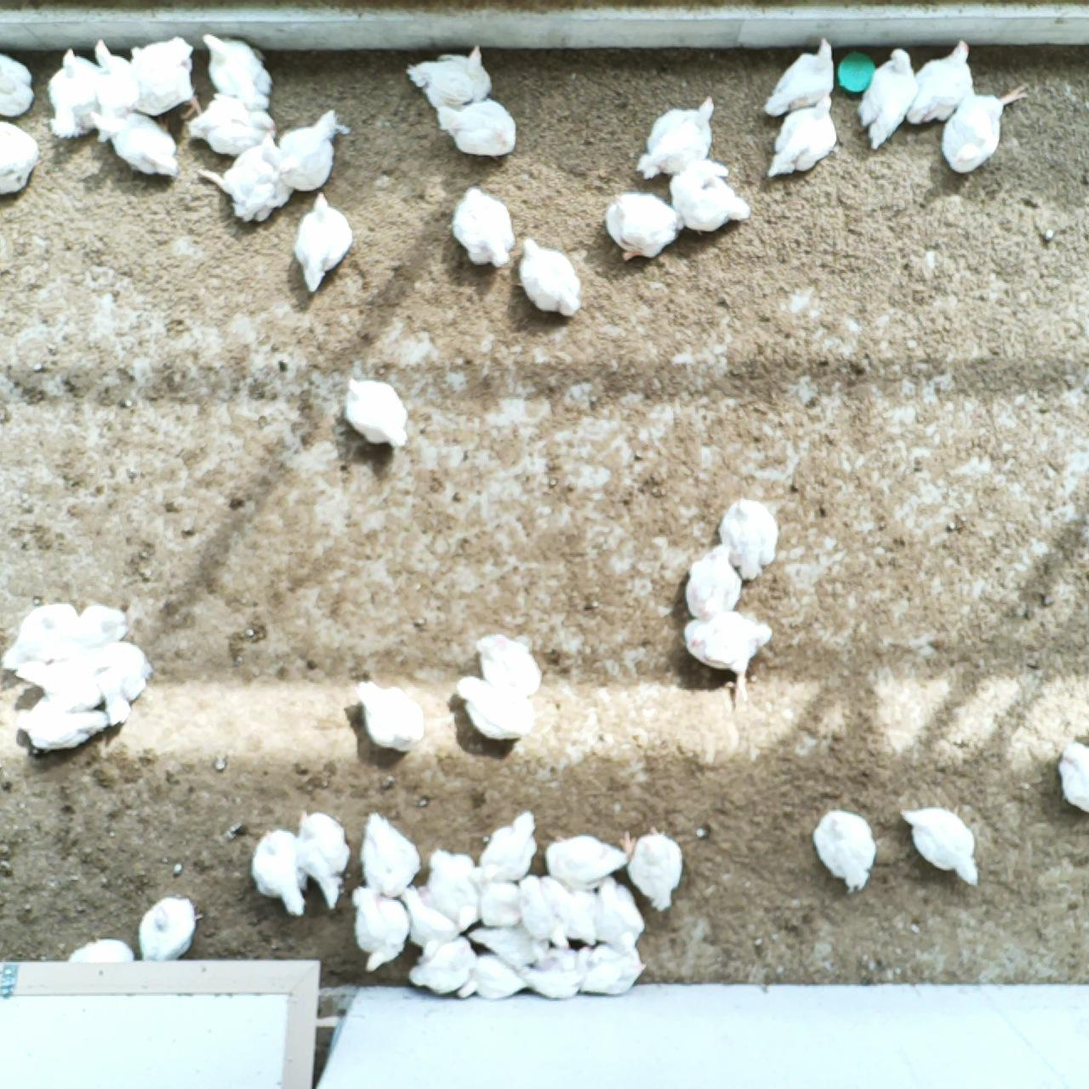chicken: (679, 600, 779, 704), (193, 122, 291, 223), (941, 79, 1030, 175), (900, 802, 988, 892), (634, 90, 717, 183), (855, 46, 922, 157), (900, 34, 978, 129), (664, 155, 754, 234), (86, 107, 179, 181), (764, 94, 841, 183), (759, 32, 838, 117), (85, 38, 145, 149), (121, 41, 205, 120), (291, 189, 353, 296), (269, 110, 347, 195), (401, 43, 493, 114), (294, 806, 354, 912), (347, 877, 413, 973), (511, 235, 586, 319), (600, 193, 687, 263), (811, 808, 881, 895), (622, 822, 687, 914), (336, 372, 413, 449), (199, 31, 274, 110), (453, 669, 535, 741), (11, 696, 109, 756), (250, 826, 313, 919), (0, 601, 80, 674), (187, 93, 277, 157), (357, 808, 422, 896), (716, 493, 782, 579), (82, 639, 150, 722), (452, 183, 516, 270), (44, 50, 105, 140), (357, 676, 425, 755), (432, 95, 516, 158), (394, 878, 459, 959), (542, 832, 631, 891), (423, 847, 482, 934), (136, 894, 206, 967), (14, 653, 103, 710), (478, 809, 542, 886), (571, 940, 650, 1002), (683, 543, 744, 622), (473, 632, 546, 697), (515, 870, 574, 948), (586, 877, 643, 956), (407, 934, 480, 995), (462, 918, 551, 968), (512, 946, 590, 1002), (455, 952, 533, 1003), (0, 119, 45, 202), (68, 599, 131, 656), (468, 869, 524, 930), (556, 879, 603, 947), (0, 49, 37, 122), (1056, 735, 1089, 814), (66, 935, 138, 969)
